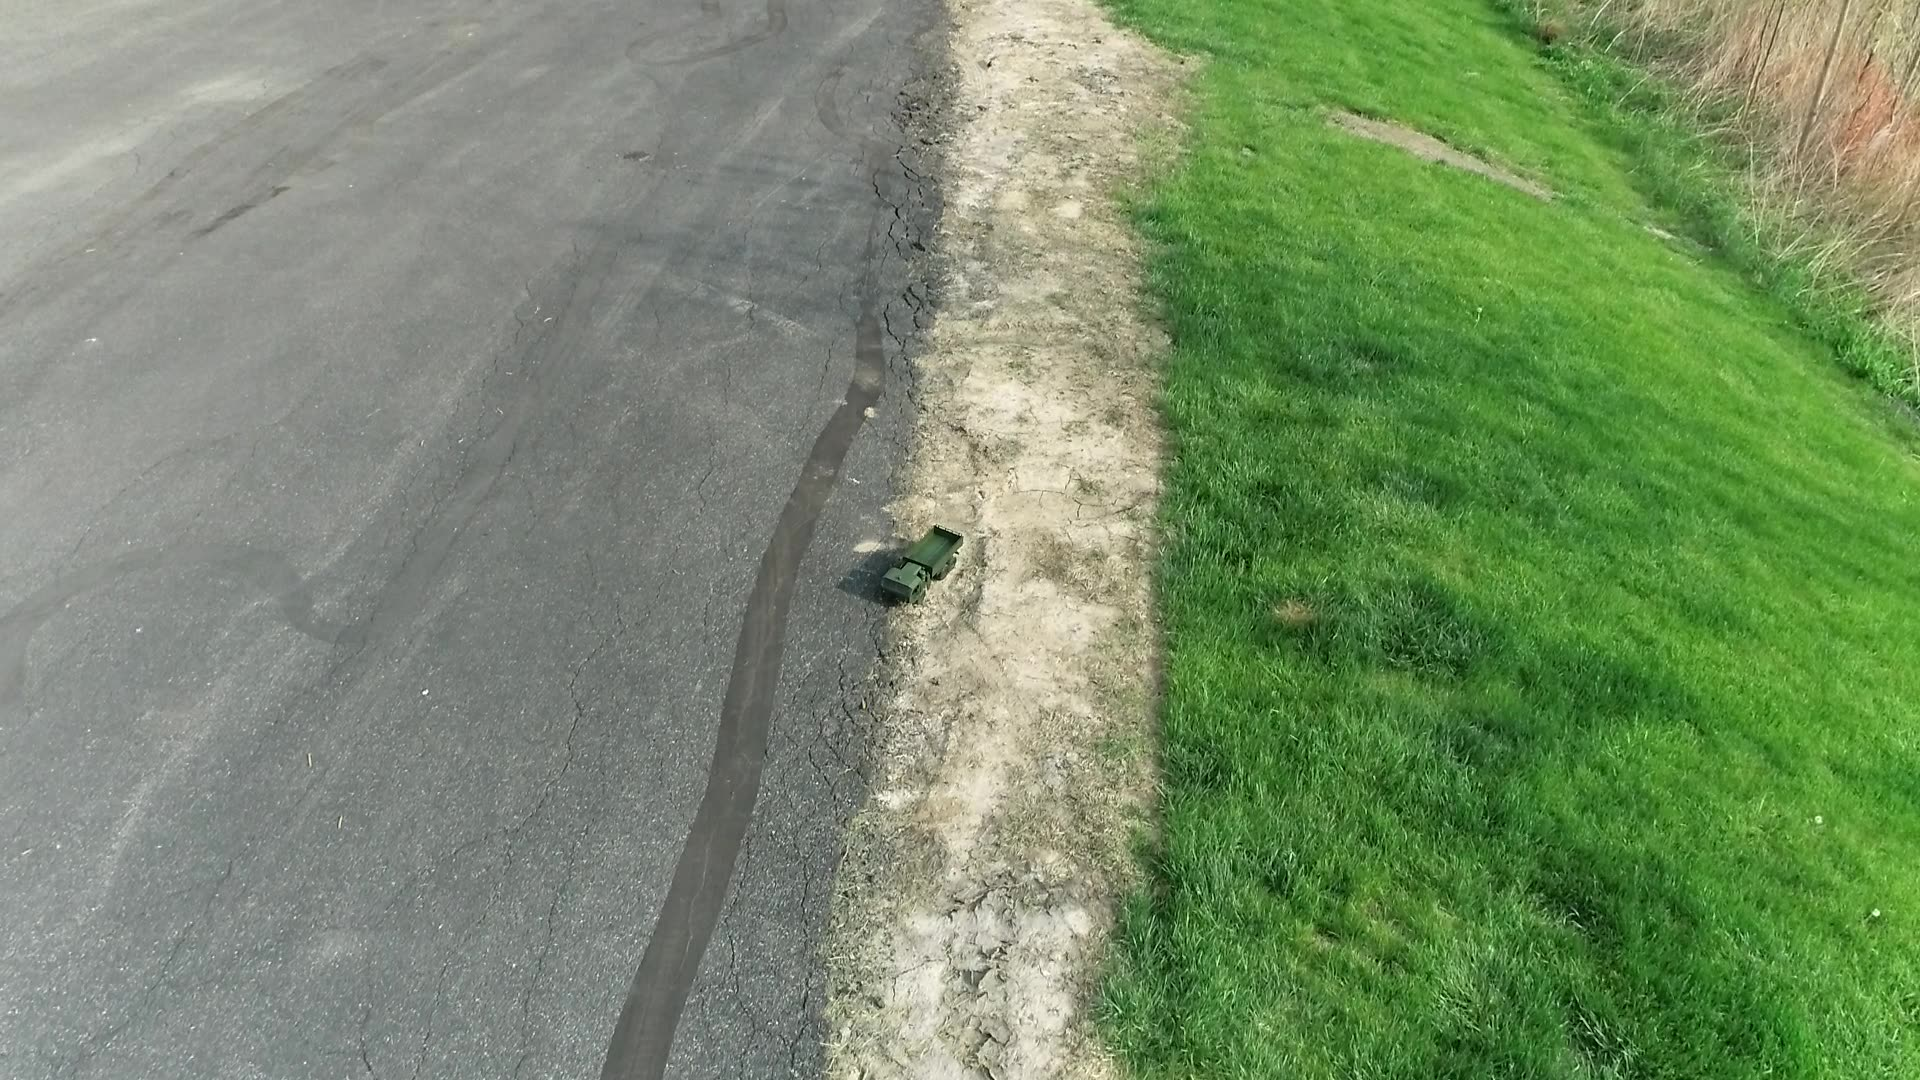transporter9: (872, 518, 969, 609)
